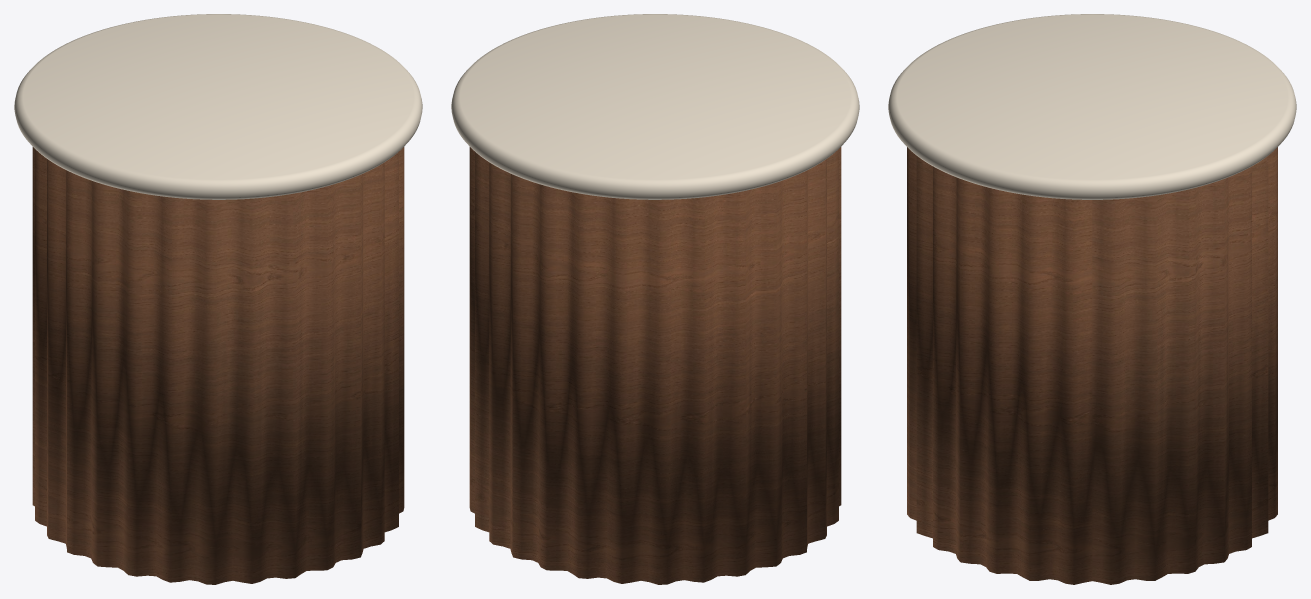
Rendered from mesa_lateral_tambor.glb.
3 renders of one model, left to right at view 1: azimuth 30°, elevation 25°; view 2: azimuth 150°, elevation 25°; view 3: azimuth 270°, elevation 25°, orthographic.
Parts seen in each view (by area): view 1: Base, Tampo; view 2: Base, Tampo; view 3: Base, Tampo.
Boxes of the visible parts, x1,y1,x2,y2 form: Base: (32,147,404,584); Tampo: (14,14,422,199); Base: (469,147,841,584); Tampo: (451,14,859,199); Base: (907,147,1277,584); Tampo: (888,14,1296,199).
Bounding box in the file's own units: 0.47 × 0.52 × 0.47.
2 materials, 1 textured.
